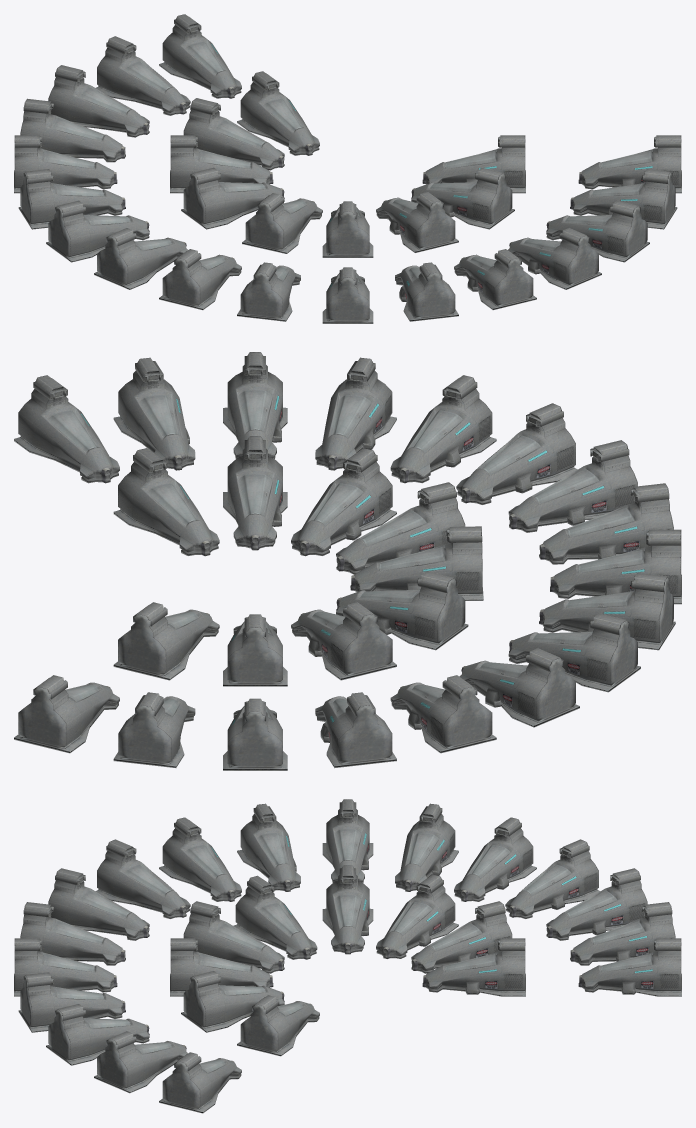
The model's file is cryoPodCluster.fbx.
The picture shows the model from 3 angles, top to bottom: view 1: azimuth 30°, elevation 25°; view 2: azimuth 150°, elevation 25°; view 3: azimuth 270°, elevation 25°; orthographic projection. The views are drawn at different scales.
Parts seen in each view (by area): view 1: cryoPodLoPoly28; view 2: cryoPodLoPoly28; view 3: cryoPodLoPoly28.
Boxes of the visible parts, x1,y1,x2,y2 form: cryoPodLoPoly28: (14,14,681,323); cryoPodLoPoly28: (14,352,681,770); cryoPodLoPoly28: (14,799,681,1113).
Size of the model in its own units: 1798 by 143 by 1889.
1 material, 1 textured.
